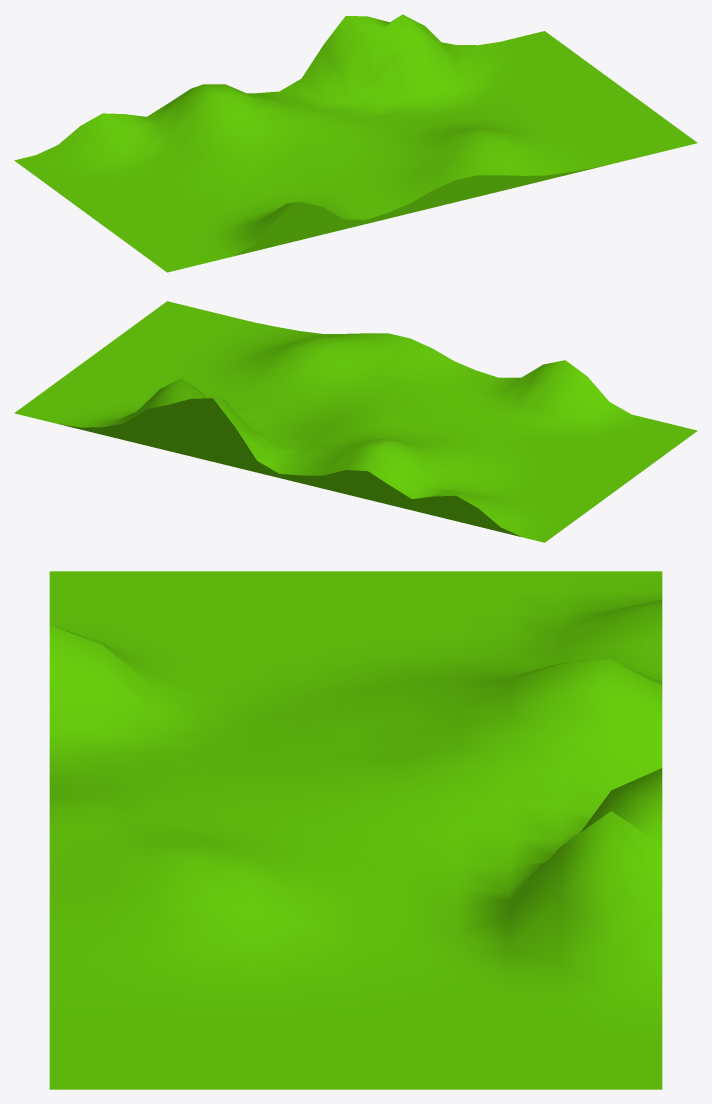
The model's file is Terrain_01.fbx.
The picture shows the model from 3 angles, top to bottom: view 1: azimuth 30°, elevation 25°; view 2: azimuth 150°, elevation 25°; view 3: azimuth 270°, elevation 25°; orthographic projection. The views are drawn at different scales.
Parts seen in each view (by area): view 1: Surface, Sides; view 2: Surface, Sides; view 3: Surface.
Boxes of the visible parts, x1,y1,x2,y2 form: Surface: (14,14,697,272); Sides: (234,165,607,256); Surface: (14,301,697,542); Sides: (60,398,520,536); Surface: (49,571,662,1089).
Size of the model in its own units: 1.31 by 0.15 by 0.654.
